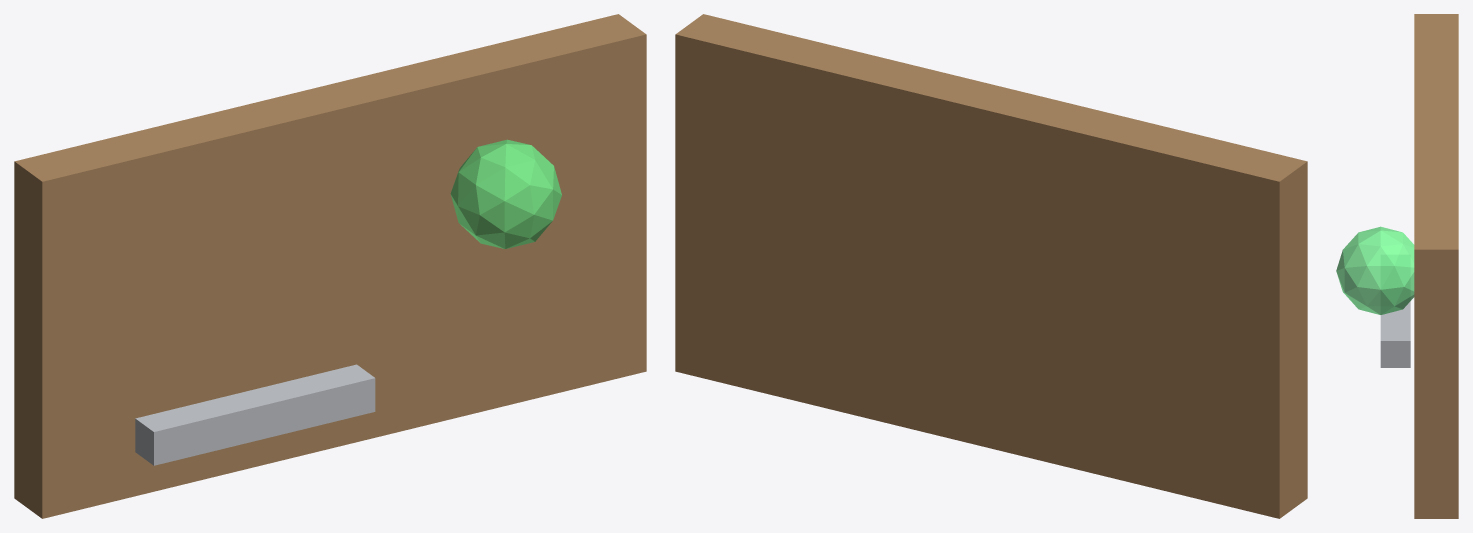
Rendered from pet_upgrade_station.glb.
The picture shows the model from 3 angles, left to right: view 1: azimuth 30°, elevation 25°; view 2: azimuth 150°, elevation 25°; view 3: azimuth 270°, elevation 25°; orthographic projection. The views are drawn at different scales.
Parts seen in each view (by area): view 1: bench_top, tool_a, power_core; view 2: bench_top; view 3: bench_top, power_core, tool_a.
Boxes of the visible parts, <box> form: bench_top: <box>14,14,646,518</box>; tool_a: <box>135,364,375,465</box>; power_core: <box>450,139,561,248</box>; bench_top: <box>675,14,1307,518</box>; bench_top: <box>1414,14,1458,518</box>; power_core: <box>1336,226,1414,314</box>; tool_a: <box>1380,255,1410,367</box>.
Bounding box in the file's own units: 1.5 × 0.8 × 0.33.
